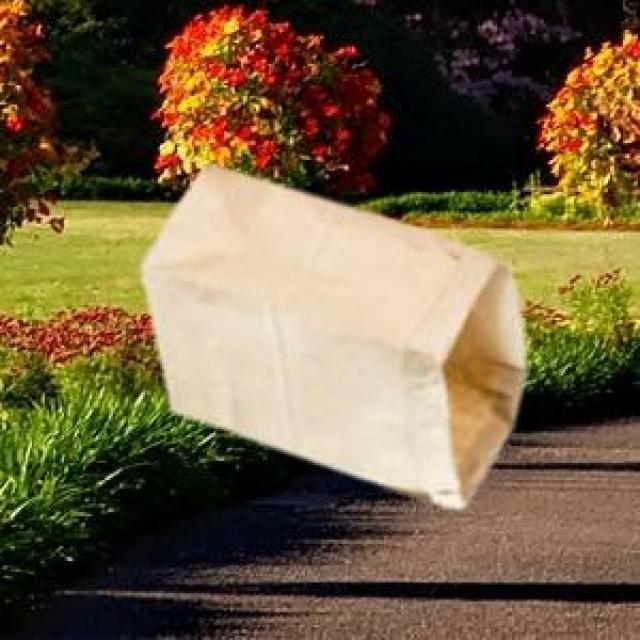paper: (139, 162, 521, 504)
